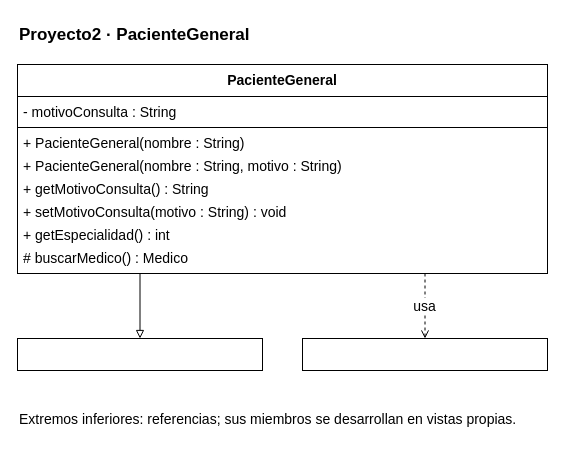
The diagram is 565 pixels wide and 455 high, and some of its shapes have lost their labels. The centre of each missing label's shape, as x and y in pixels:
Medico: the point at 425,354
Paciente: the point at 139,354
